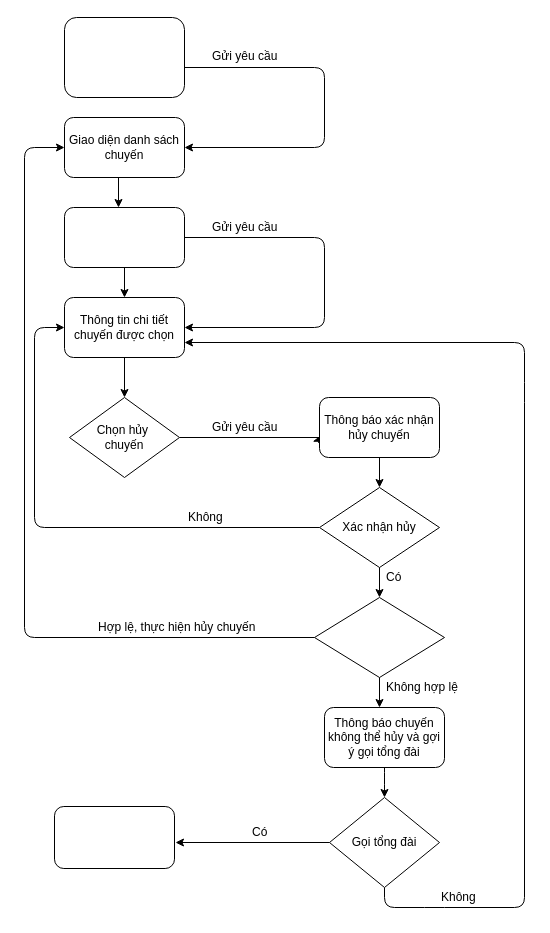
The diagram is 550 pixels wide and 933 high, and some of its shapes have lost their labels. The shapes that lost their labels are listed below. From the top down, each one's centre as x and y in pixels, then its label:
pixel 124 57: Xem danh sách chuyến đã đặt từ thanh điều hướng
pixel 124 237: Chọn chuyến muốn hủy
pixel 379 637: Kiểm tra thông tin chuyến
pixel 114 837: Giao diện cuộc gọi
